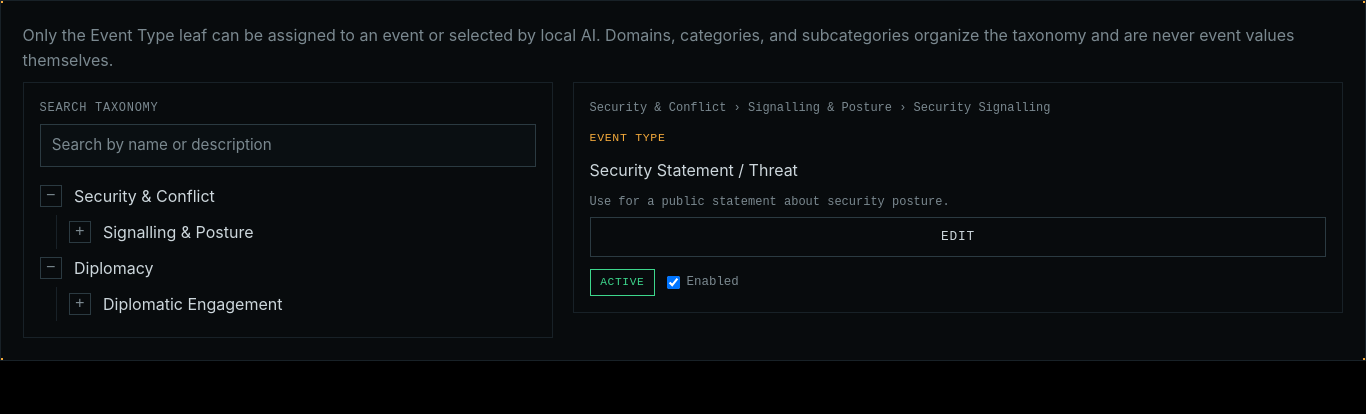
Test: EventTypeSettings › selects a different node from the tree and updates the inspector
The width and height of the screenshot is (1366, 414).
Click the button "Diplomatic Engagement" at (193, 304), box 97,287 -> 536,321
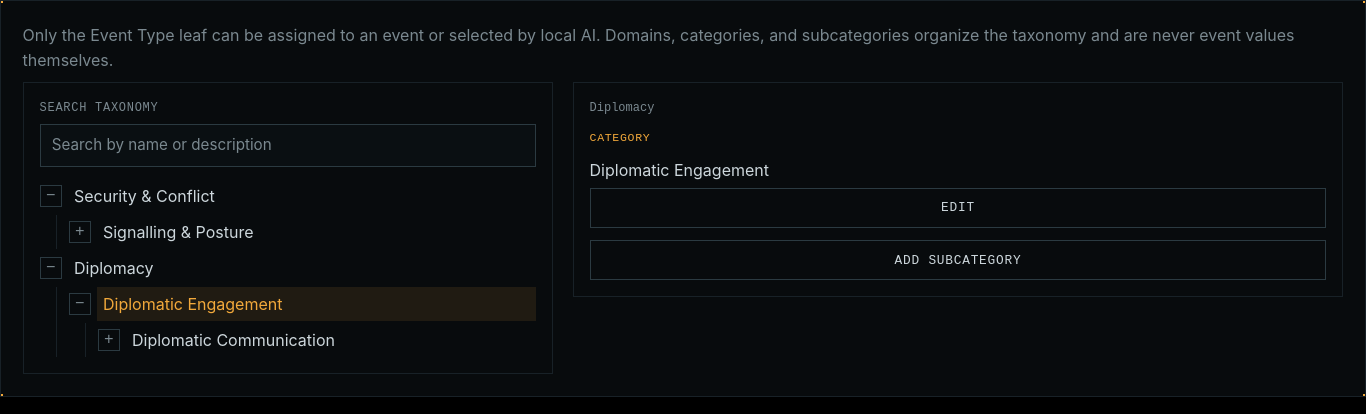
Expected: the heading "Diplomatic Engagement" is shown, 590,160 -> 769,180
Expected: the heading "Security Statement / Threat" is gone
